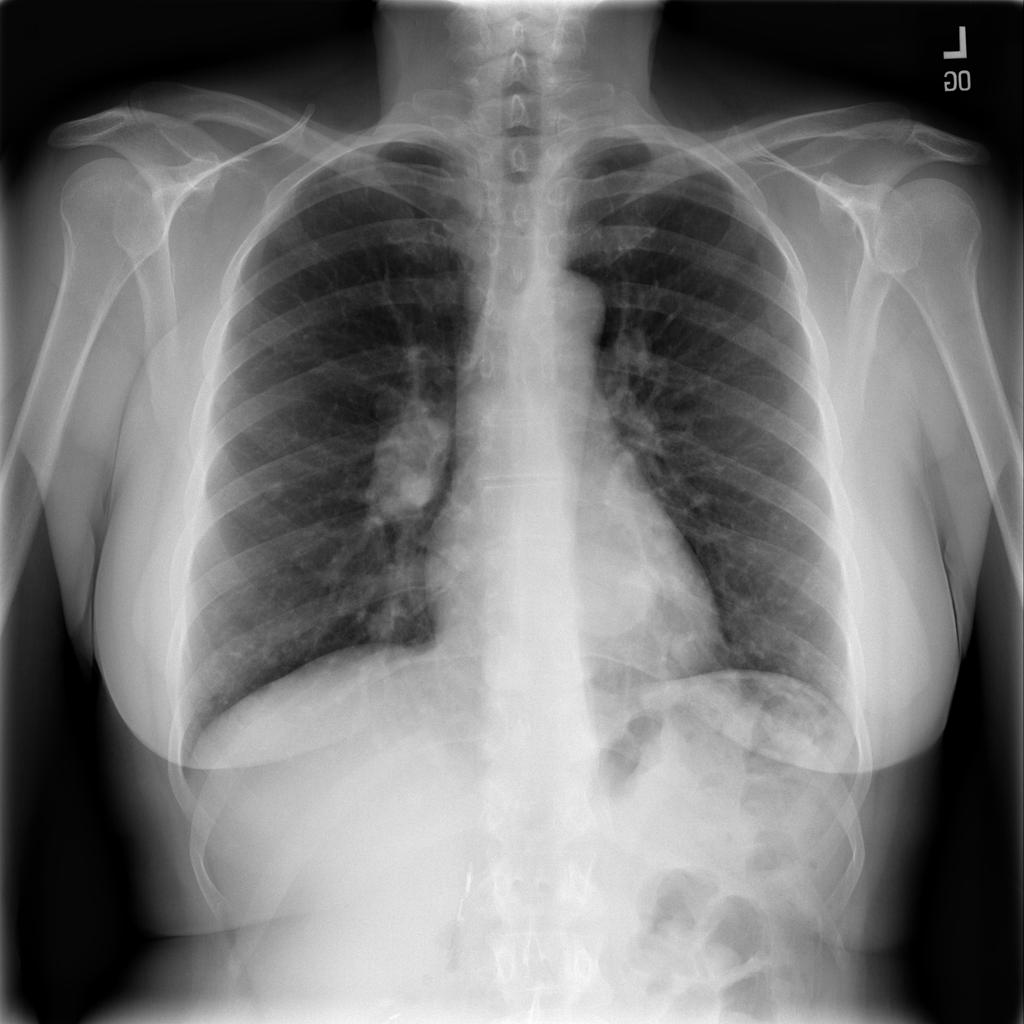nodule: (360, 399, 473, 526)
